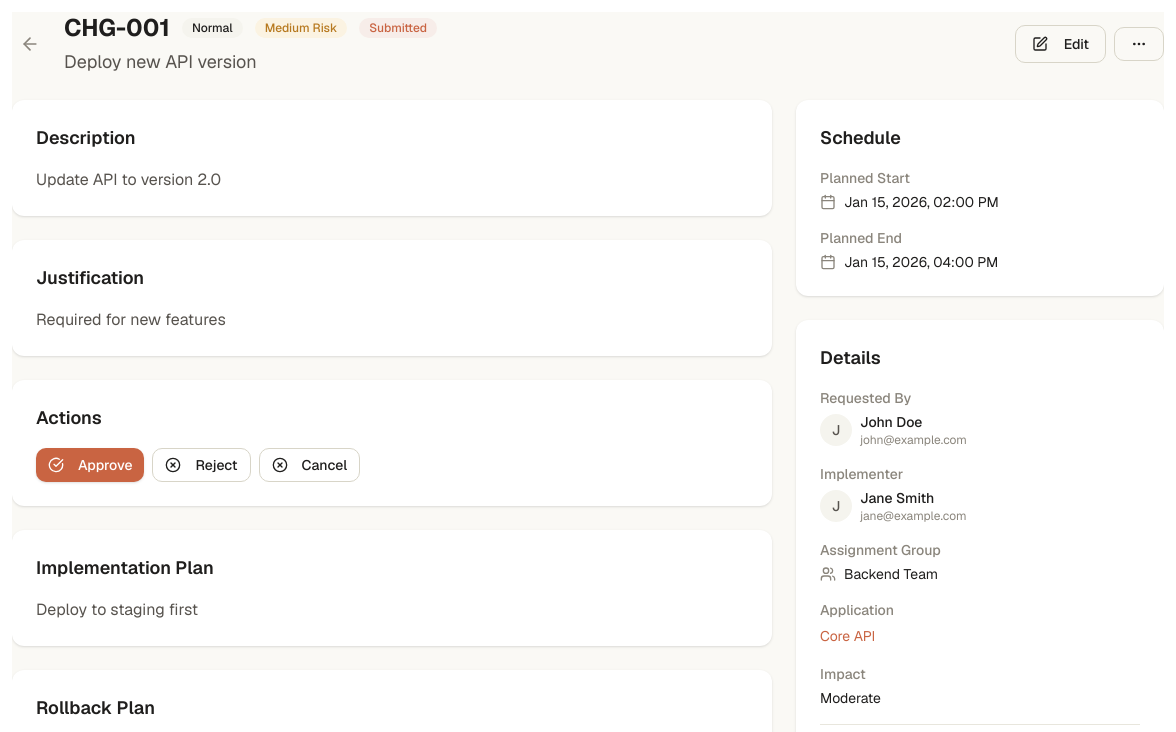
Test: ChangeDetailPage › Edit Mode › cancels edit mode and restores original values
Click the button "Edit".
click(1060, 44)  # box [1015, 25, 1106, 63]
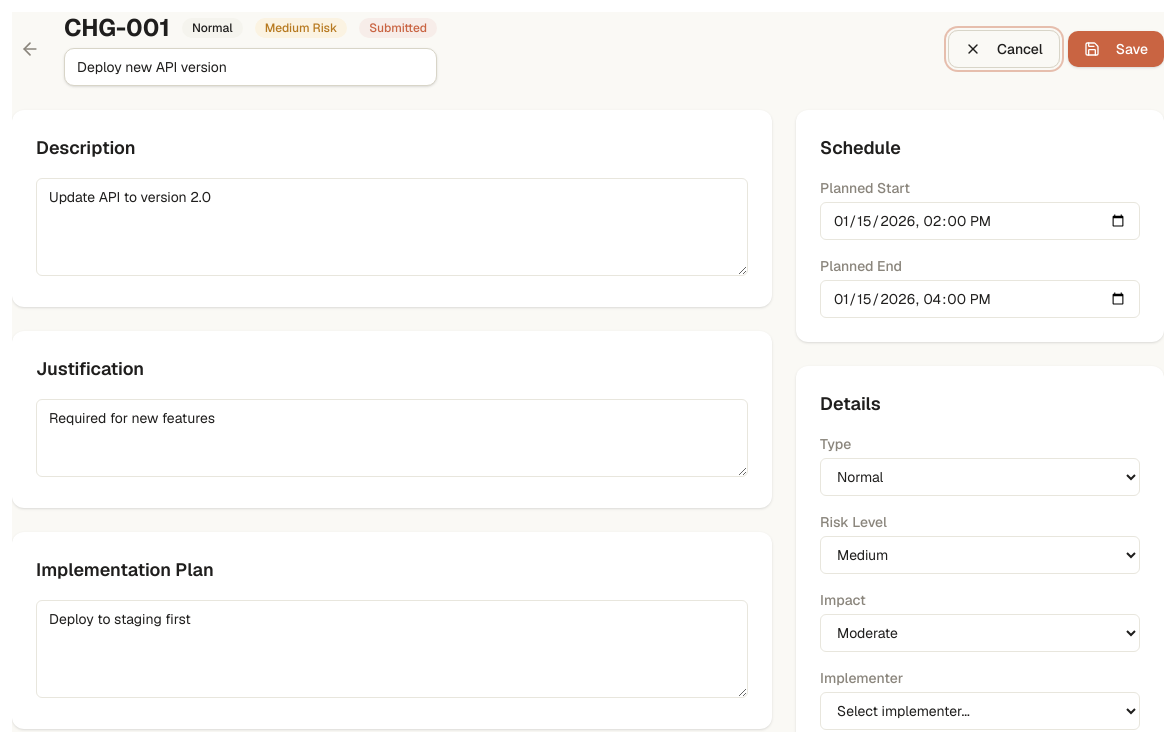
Replace the text in the field with placeholder "Change title" below "CHG-001" with "Modified Title" at (250, 67), box [64, 48, 437, 86]
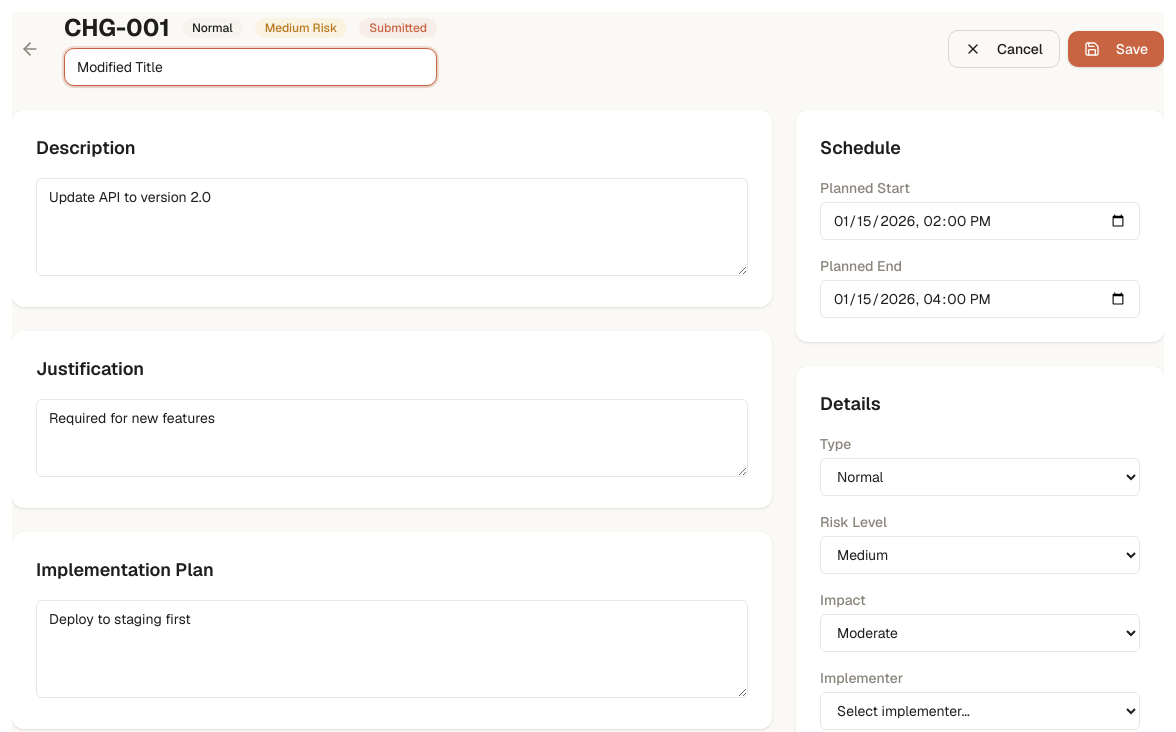
Click the button "Cancel".
click(1004, 49)  # box [948, 30, 1060, 68]
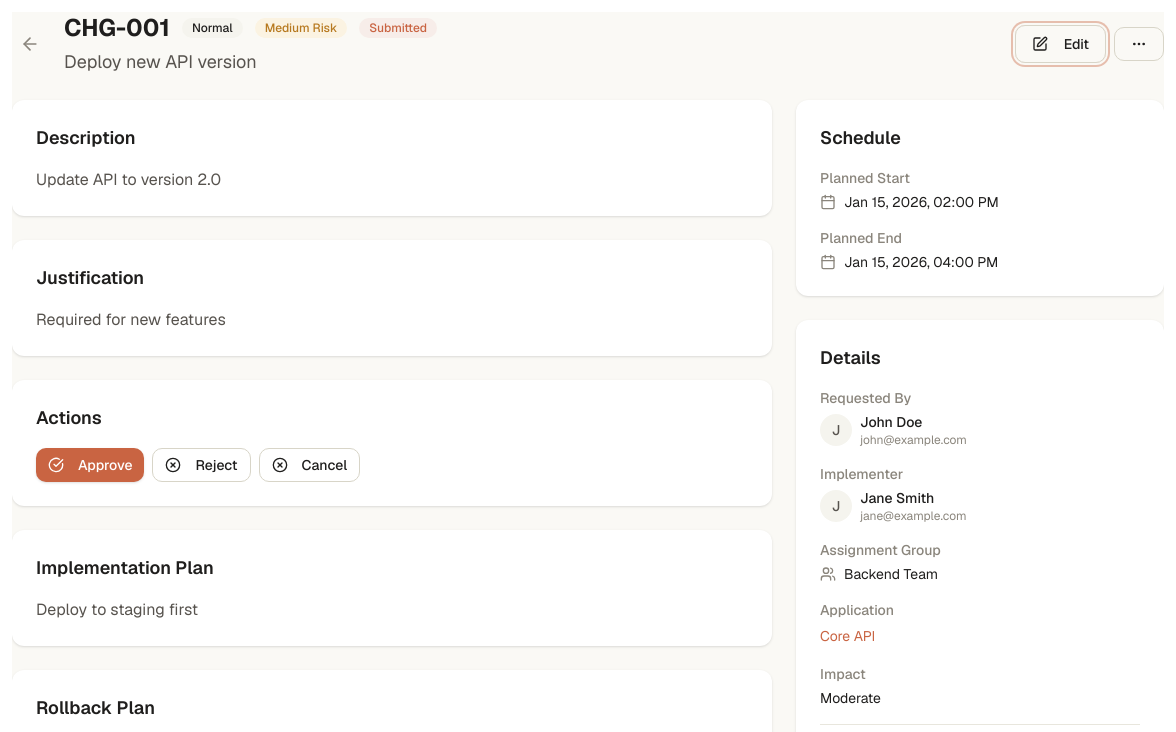
Now the text "Deploy new API version" is shown, box [64, 50, 257, 73]
Now the button "Save" is gone
